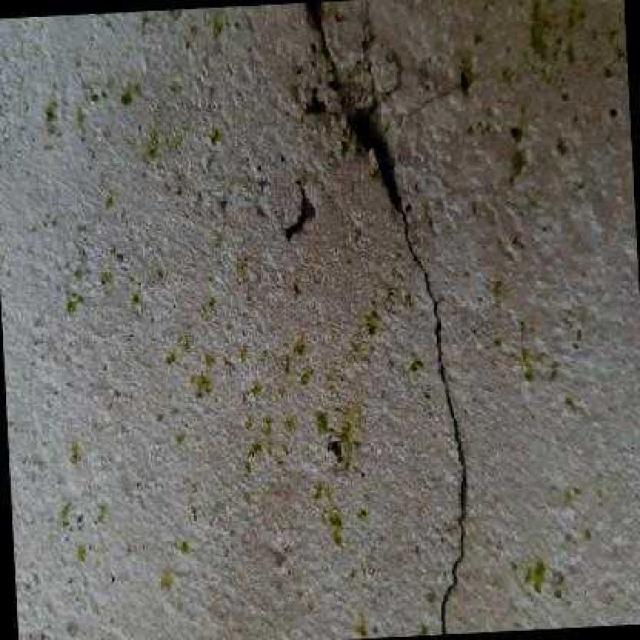D00: (297, 0, 465, 634)
